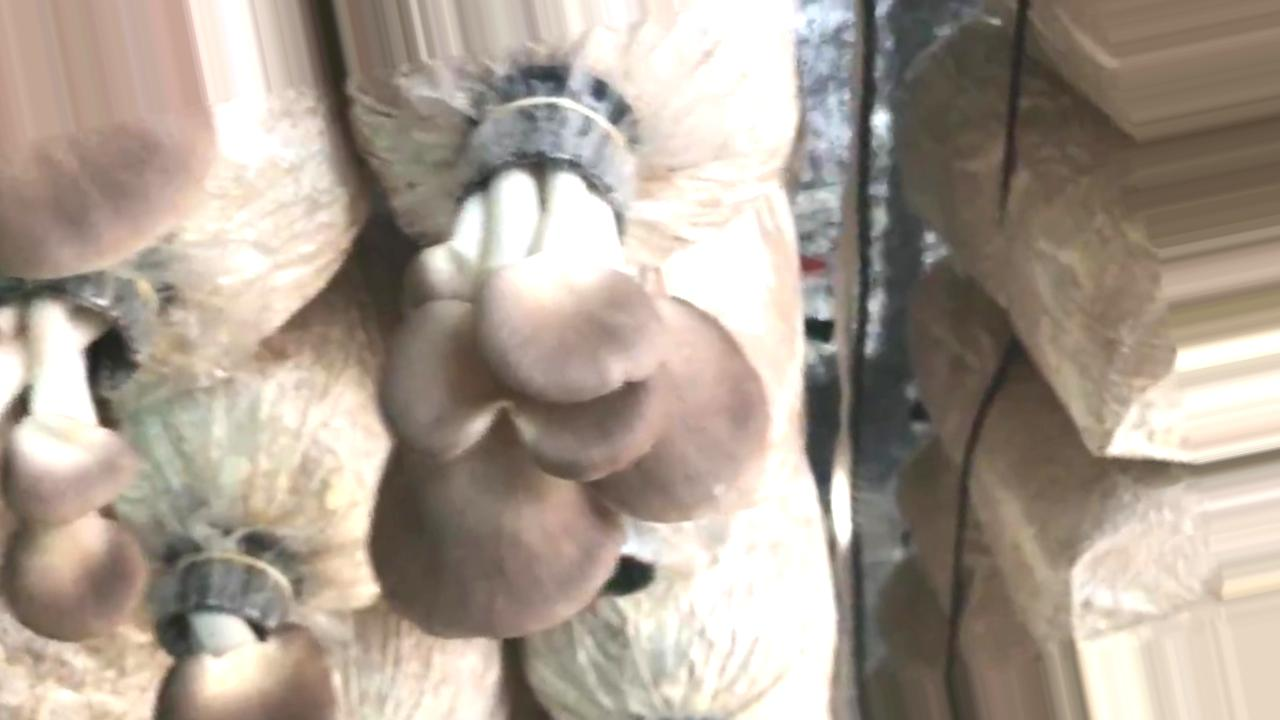nam: (366, 95, 763, 637), (1, 266, 160, 645), (1, 1, 213, 277), (159, 560, 335, 720)
